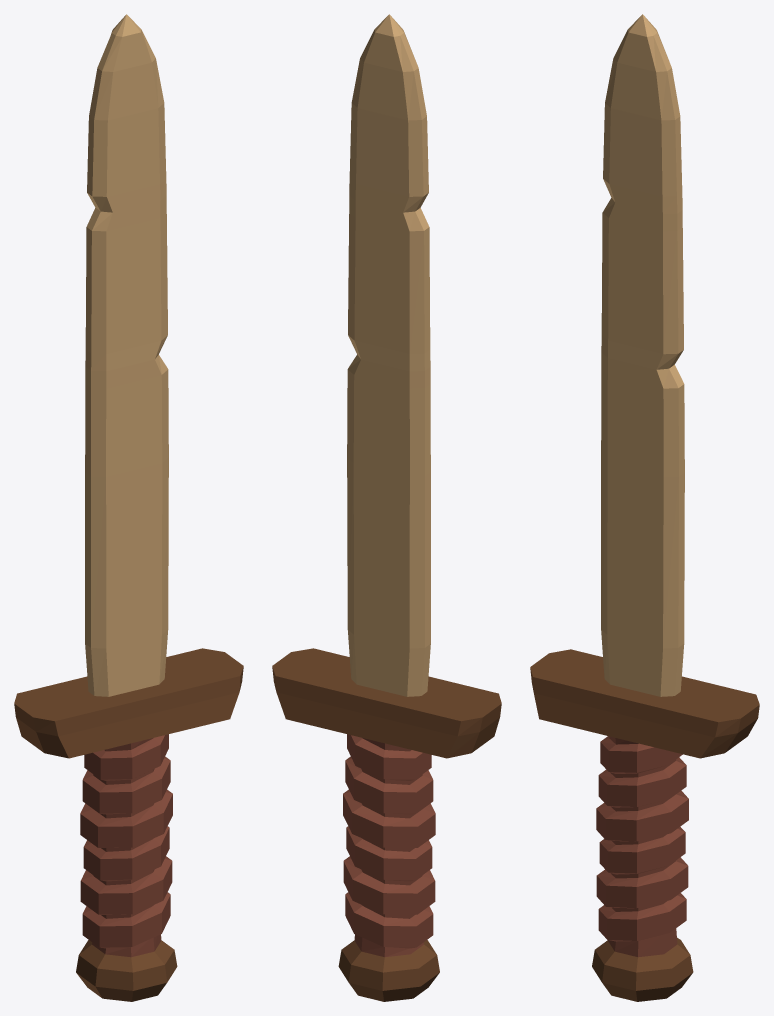
The model's file is training-sword.glb.
The picture shows the model from 3 angles, left to right: view 1: azimuth 30°, elevation 25°; view 2: azimuth 150°, elevation 25°; view 3: azimuth 330°, elevation 25°; orthographic projection.
Parts seen in each view (by area): view 1: light_wood, dark_wood, cloth_wrap; view 2: light_wood, dark_wood, cloth_wrap; view 3: light_wood, dark_wood, cloth_wrap.
Boxes of the visible parts, left/top/right/bottom form: light_wood: left=85, top=14, right=168, bottom=696; dark_wood: left=14, top=648, right=243, bottom=1001; cloth_wrap: left=80, top=734, right=172, bottom=957; light_wood: left=347, top=14, right=430, bottom=696; dark_wood: left=272, top=648, right=501, bottom=1001; cloth_wrap: left=343, top=734, right=435, bottom=957; light_wood: left=601, top=14, right=684, bottom=696; dark_wood: left=530, top=649, right=759, bottom=1001; cloth_wrap: left=596, top=736, right=688, bottom=957.
Bounding box in the file's own units: 0.9 × 4 × 0.35.
